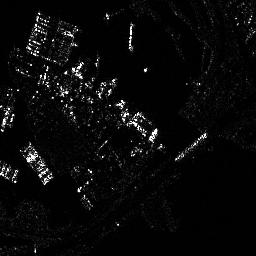ship: (174, 131, 207, 161)
